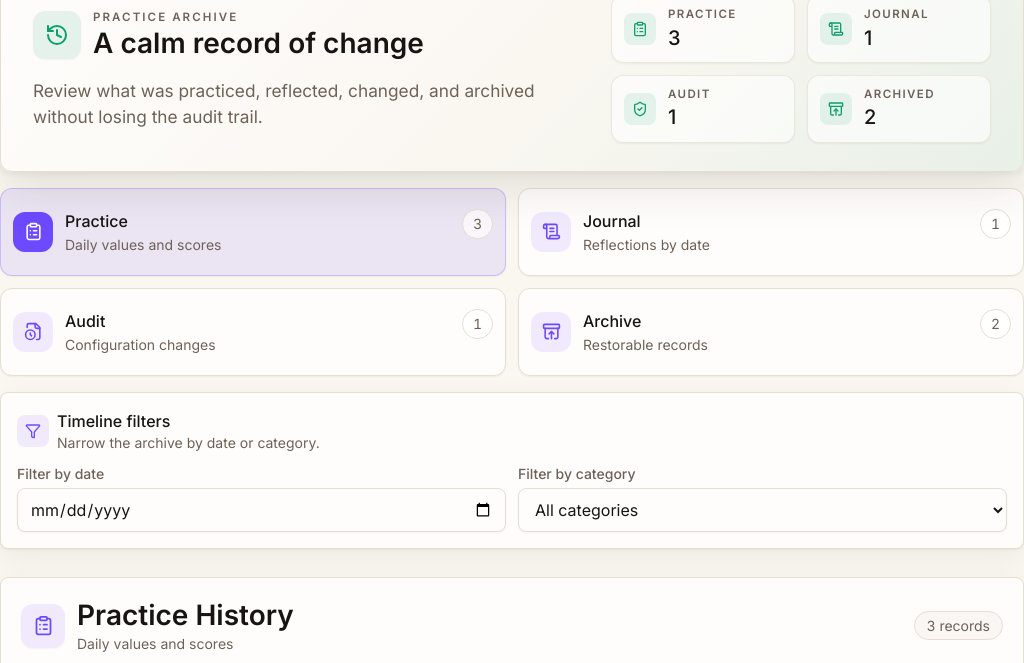
Test: HistoryScreen › shows archived categories and habits and restores supported items
Click the button with aria-label "Archived Items" at [551, 332], box [518,288,1023,376]
(page scrolled)
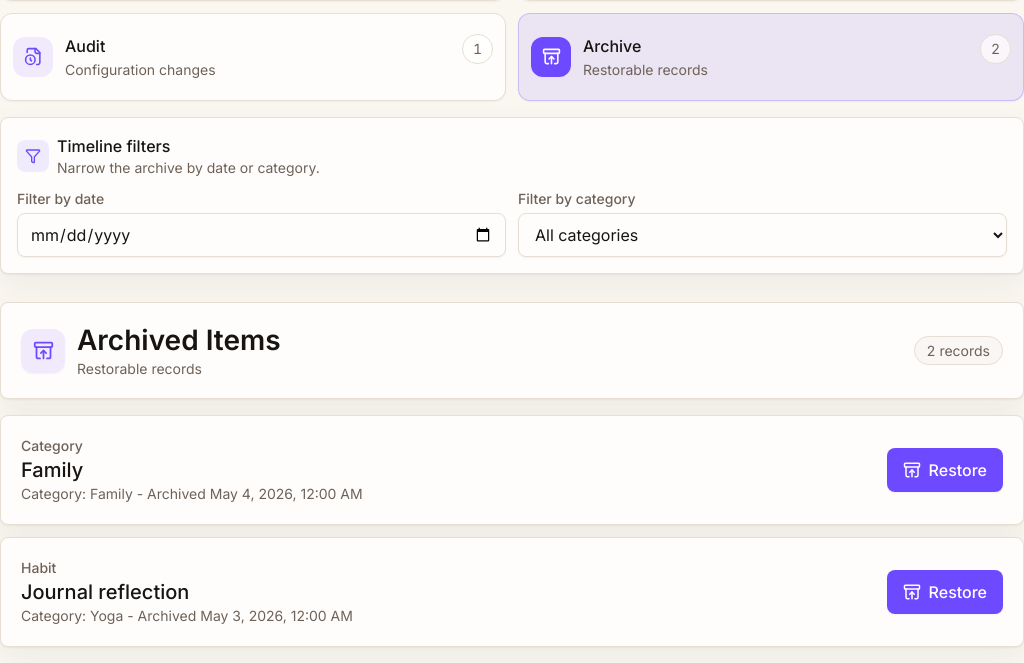
Check: the heading "Journal reflection" is shown, box [21,580,189,604]
Check: the heading "Family" is shown, box [21,458,83,482]
Click the button with aria-label "Restore category Family" at [945, 470], box [887,448,1003,492]
(page scrolled)
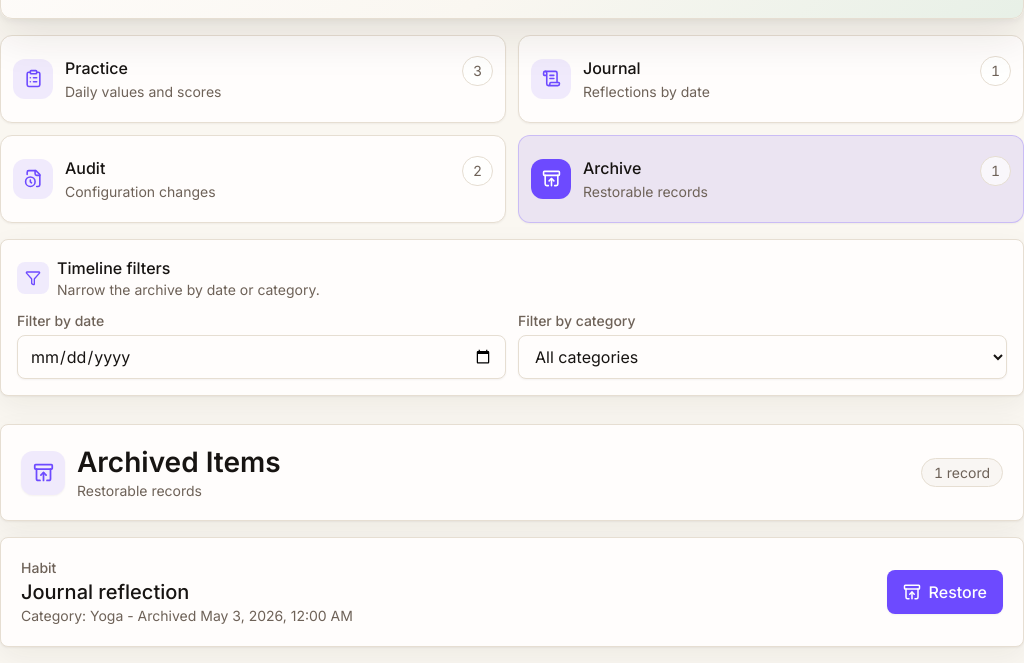
Check: the heading "Family" is gone
